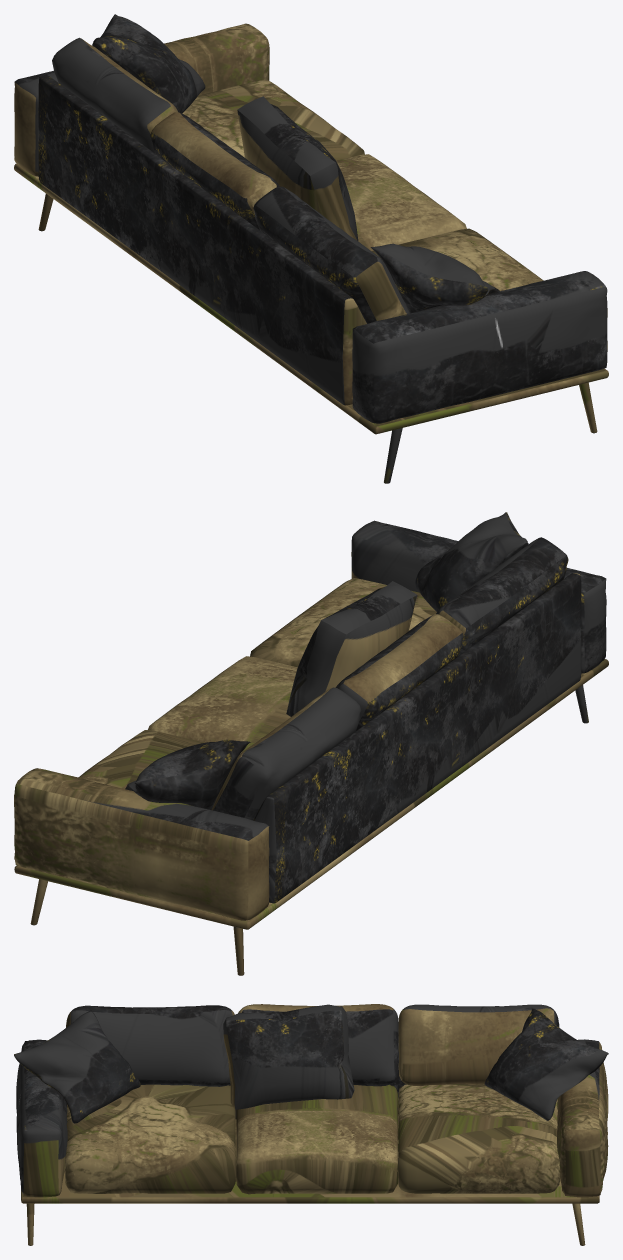
The model's file is sofa.obj.
The picture shows the model from 3 angles, top to bottom: view 1: azimuth 30°, elevation 25°; view 2: azimuth 150°, elevation 25°; view 3: azimuth 270°, elevation 25°; orthographic projection. The views are drawn at different scales.
Visible parts, largest first — view 1: defaultMaterial.011; view 2: defaultMaterial.011; view 3: defaultMaterial.011.
Boxes of the visible parts, bbox=[...] form: defaultMaterial.011: bbox=[14, 14, 608, 483]; defaultMaterial.011: bbox=[14, 512, 608, 975]; defaultMaterial.011: bbox=[14, 1004, 608, 1245].
Bounding box in the file's own units: 56.24 × 49.76 × 147.
